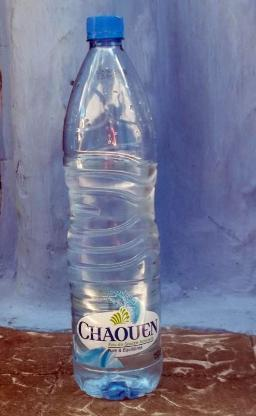Plastic Bottle: (62, 14, 164, 400)
